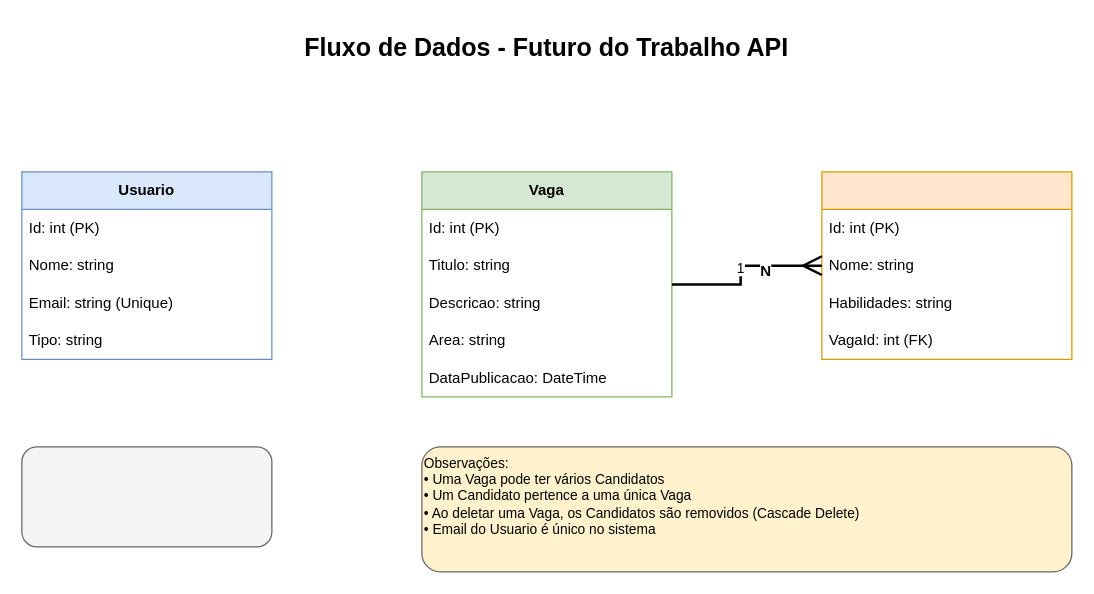
Image size: 1094x594. Some labels were removed from this diagram. Here are the shapes that lost their labels. From the top down, the box of each, then its label:
(821, 171, 1072, 359): Candidato
(21, 446, 272, 547): Legenda: PK = Primary Key FK = Foreign Key 1:N = Um para Muitos
